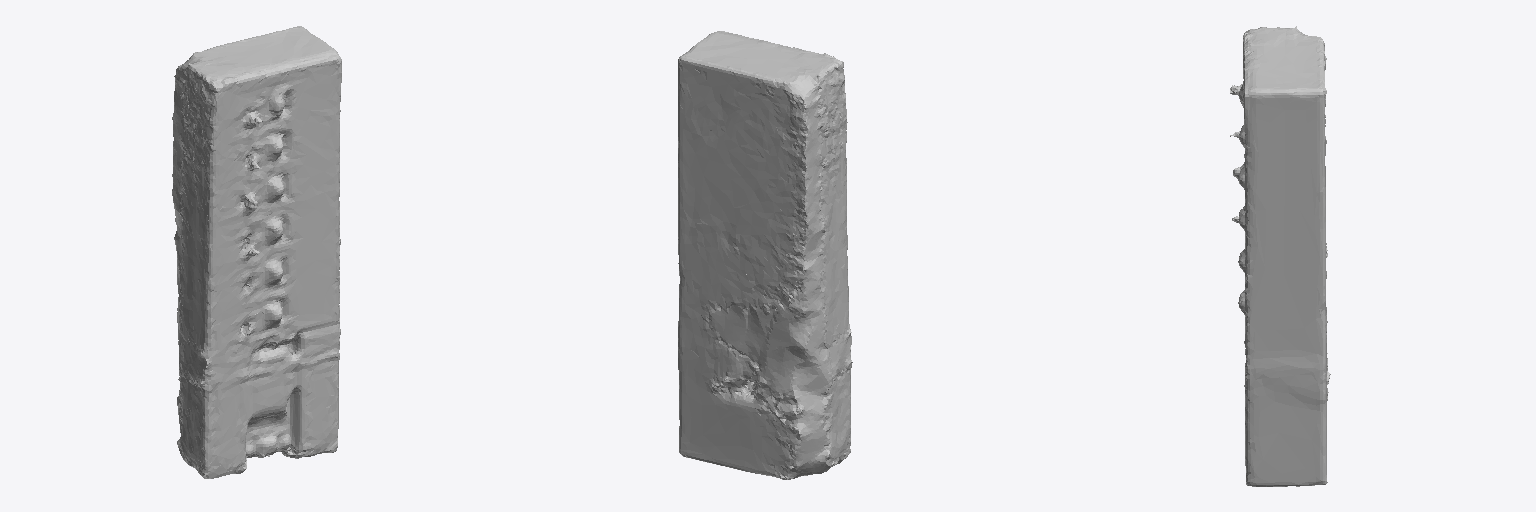
The model's file is Emulator.obj.
3 renders of one model, left to right at view 1: azimuth 30°, elevation 25°; view 2: azimuth 150°, elevation 25°; view 3: azimuth 270°, elevation 25°, orthographic.
Size of the model in its own units: 62.9 by 172 by 39.17.